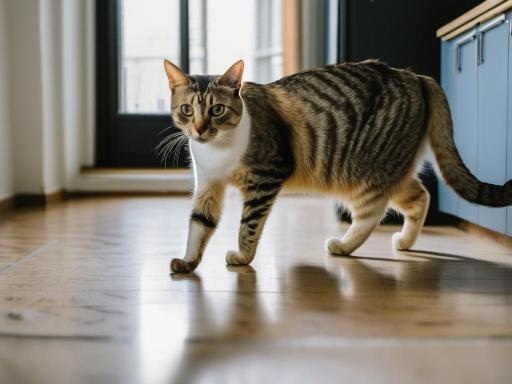cat_standing: (164, 60, 512, 272)
